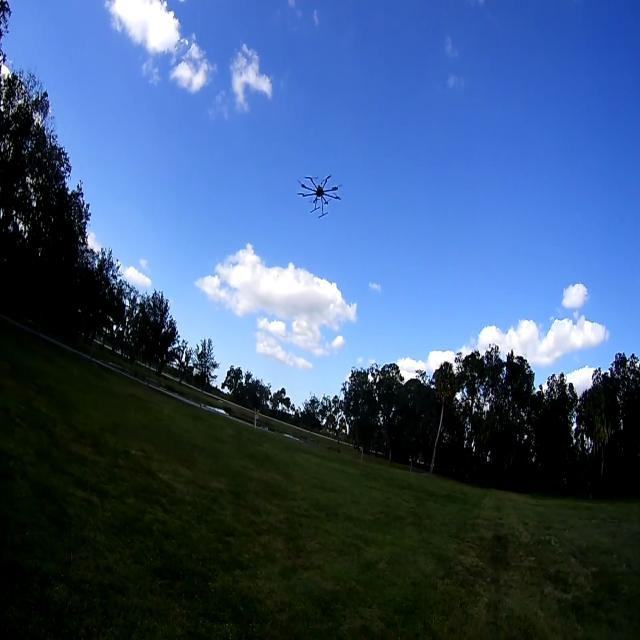drone: (295, 157, 352, 221)
